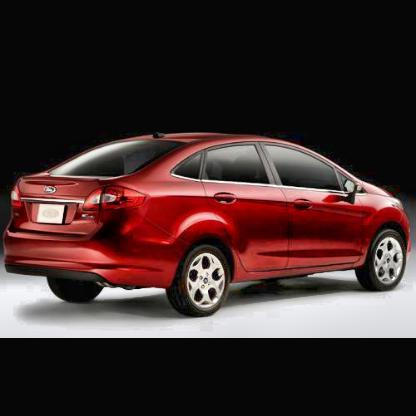Ford Fiesta Sedan 2012: (3, 129, 415, 319)
